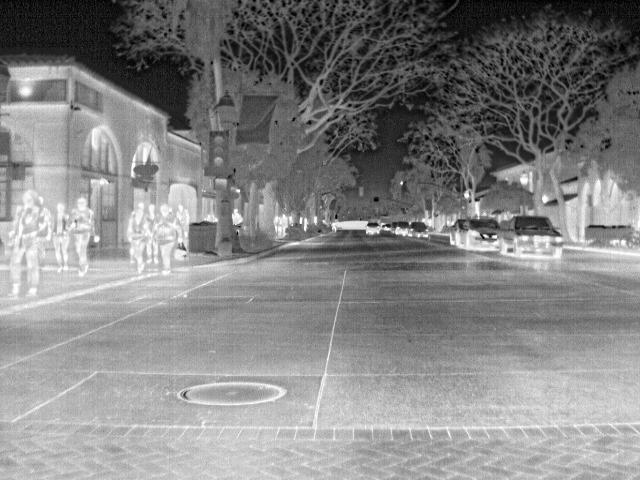car: (499, 212, 564, 260), (456, 218, 500, 252), (449, 220, 469, 246), (408, 221, 429, 241), (364, 218, 383, 236), (395, 222, 411, 236)
person: (7, 189, 44, 299), (70, 195, 97, 276), (152, 206, 179, 272), (51, 200, 74, 272), (126, 207, 150, 273), (177, 202, 191, 250), (229, 208, 244, 227), (279, 213, 291, 235)
